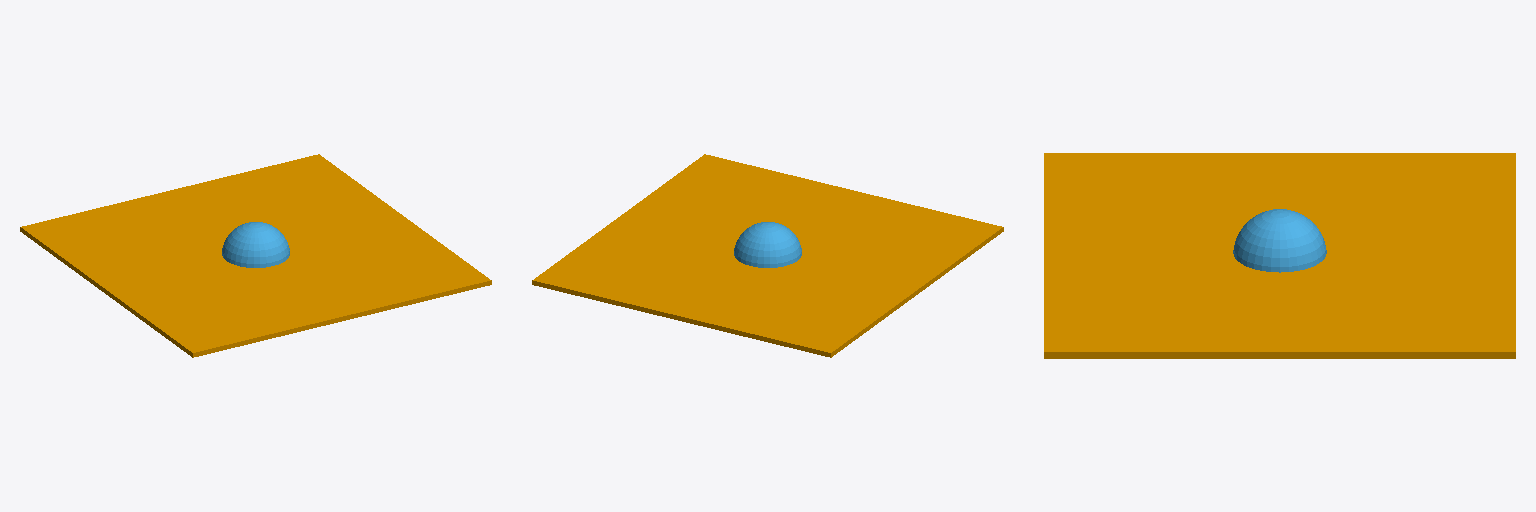
The robot description file, URDF, robot "roboy_vr_booth":
<?xml version="1.0" ?>
<robot name="roboy_vr_booth">
  <joint name="joint0" type="prismatic">
    <parent link="base"/>
    <child link="link0"/>
    <origin rpy="0  0  0" xyz="0  0  0"/>
    <axis xyz="1  0  0"/>
    <limit effort="0.0" lower="-1.0" upper="1.0" velocity="0.0"/>
  </joint>
  <joint name="joint1" type="prismatic">
    <parent link="link0"/>
    <child link="link1"/>
    <origin rpy="0  0  0" xyz="0  0  0"/>
    <axis xyz="0  1  0"/>
    <limit effort="0.0" lower="-1.0" upper="1.0" velocity="0.0"/>
  </joint>
  <joint name="joint2" type="prismatic">
    <parent link="link1"/>
    <child link="link2"/>
    <origin rpy="0  0  0" xyz="0  0  0"/>
    <axis xyz="0  0  1"/>
    <limit effort="0.0" lower="-1.0" upper="1.0" velocity="0.0"/>
  </joint>
  <joint name="joint3" type="revolute">
    <parent link="link2"/>
    <child link="link3"/>
    <origin rpy="0  0  0" xyz="0  0  0"/>
    <axis xyz="1  0  0"/>
    <limit effort="0.0" lower="-3.14159265359" upper="3.14159265359" velocity="0.0"/>
  </joint>
  <joint name="joint4" type="revolute">
    <parent link="link3"/>
    <child link="link4"/>
    <origin rpy="0  0  0" xyz="0  0  0"/>
    <axis xyz="0  1  0"/>
    <limit effort="0.0" lower="-3.14159265359" upper="3.14159265359" velocity="0.0"/>
  </joint>
  <joint name="joint5" type="revolute">
    <parent link="link4"/>
    <child link="link5"/>
    <origin rpy="0  0  0" xyz="0  0  0"/>
    <axis xyz="0  0  1"/>
    <limit effort="0.0" lower="-3.14159265359" upper="3.14159265359" velocity="0.0"/>
  </joint>
  <link name="base">
    <inertial>
      <mass value="1000"/>
      <origin rpy="0  0  0" xyz="0  0  0"/>
      <inertia ixx="0.1" ixy="0.0" ixz="0.0" iyy="0.1" iyz="0.0" izz="0.1"/>
    </inertial>
    <collision name="base_collision">
      <origin rpy="0  0  0" xyz="0  0  0"/>
      <geometry>
        <box size="0.2 0.2 0.003"/>
      </geometry>
    </collision>
    <visual name="base_visual">
      <origin rpy="0  0  0" xyz="0  0  0"/>
      <geometry>
        <box size="0.2 0.2 0.003"/>
      </geometry>
    </visual>
  </link>
  <link name="link5">
    <inertial>
      <mass value="0.0001"/>
      <origin rpy="0  0  0" xyz="0   0   0.1"/>
      <inertia ixx="0.001" ixy="0.0" ixz="0.0" iyy="0.001" iyz="0.0" izz="0.001"/>
    </inertial>
    <collision name="link5_collision">
      <origin rpy="0  0  0" xyz="0  0  0"/>
      <geometry>
        <sphere radius="0.02"/>
      </geometry>
    </collision>
    <visual name="link5_visual">
      <origin rpy="0  0  0" xyz="0  0  0"/>
      <geometry>
        <sphere radius="0.02"/>
      </geometry>
    </visual>
  </link>
  <link name="link0">
    <inertial>
      <mass value="0.0001"/>
      <origin rpy="0  0  0" xyz="0   0   0.1"/>
      <inertia ixx="0.001" ixy="0.0" ixz="0.0" iyy="0.001" iyz="0.0" izz="0.001"/>
    </inertial>
  </link>
  <link name="link1">
    <inertial>
      <mass value="0.0001"/>
      <origin rpy="0  0  0" xyz="0   0   0.1"/>
      <inertia ixx="0.001" ixy="0.0" ixz="0.0" iyy="0.001" iyz="0.0" izz="0.001"/>
    </inertial>
  </link>
  <link name="link2">
    <inertial>
      <mass value="0.0001"/>
      <origin rpy="0  0  0" xyz="0   0   0.1"/>
      <inertia ixx="0.001" ixy="0.0" ixz="0.0" iyy="0.001" iyz="0.0" izz="0.001"/>
    </inertial>
  </link>
  <link name="link3">
    <inertial>
      <mass value="0.0001"/>
      <origin rpy="0  0  0" xyz="0   0   0.1"/>
      <inertia ixx="0.001" ixy="0.0" ixz="0.0" iyy="0.001" iyz="0.0" izz="0.001"/>
    </inertial>
  </link>
  <link name="link4">
    <inertial>
      <mass value="0.0001"/>
      <origin rpy="0  0  0" xyz="0   0   0.1"/>
      <inertia ixx="0.001" ixy="0.0" ixz="0.0" iyy="0.001" iyz="0.0" izz="0.001"/>
    </inertial>
  </link>
</robot>

--- Facts derived from the render (not from the file) ---
The picture shows the robot from 3 angles, left to right: view 1: azimuth 30°, elevation 25°; view 2: azimuth 150°, elevation 25°; view 3: azimuth 270°, elevation 25°; orthographic projection.
Model roboy_vr_booth with 7 links and 6 joints (3 revolute, 3 prismatic), rooted at base, posed all joints at 0.
Links seen in each view (by area): view 1: base, link5; view 2: base, link5; view 3: base, link5.
Link boxes in pixels (x1,y1,x2,y2): base: (20, 154, 491, 357); link5: (222, 222, 289, 267); base: (532, 154, 1003, 357); link5: (734, 222, 801, 267); base: (1044, 153, 1515, 358); link5: (1233, 209, 1326, 272).
Bounding box of the posed robot: 0.2 × 0.2 × 0.04 m (x, y, z).
Geometry: primitives only (box / cylinder / sphere), no mesh files.